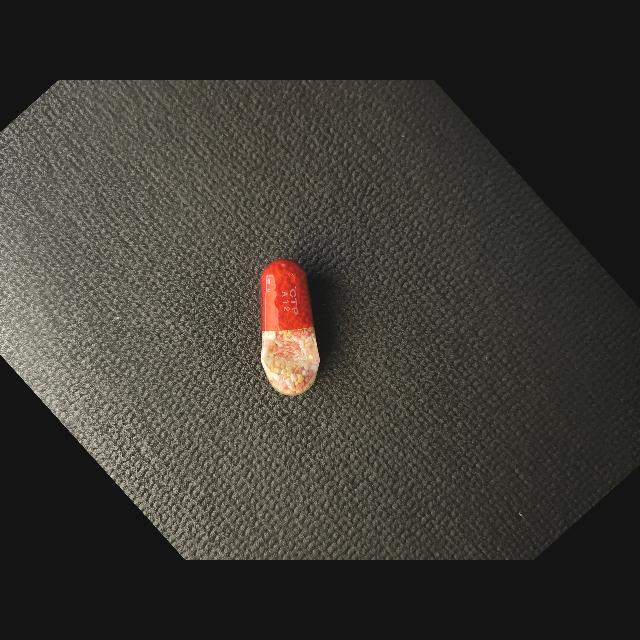Defective Capsule: (260, 259, 320, 396)
